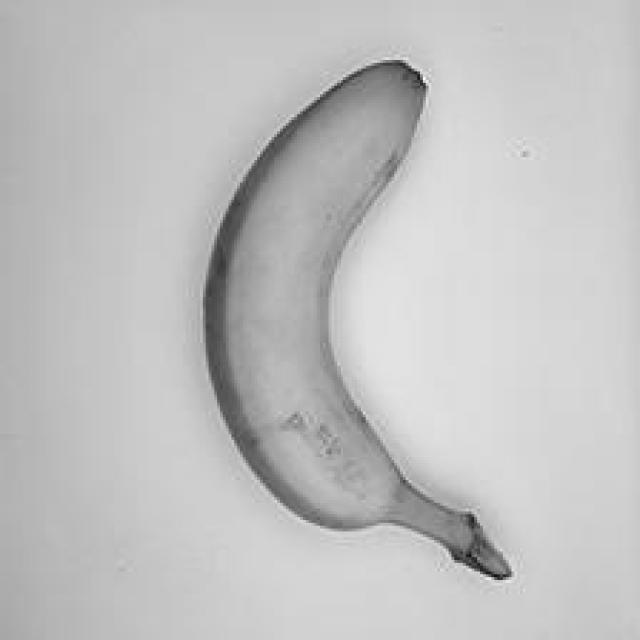Unripe: (138, 39, 554, 598)
